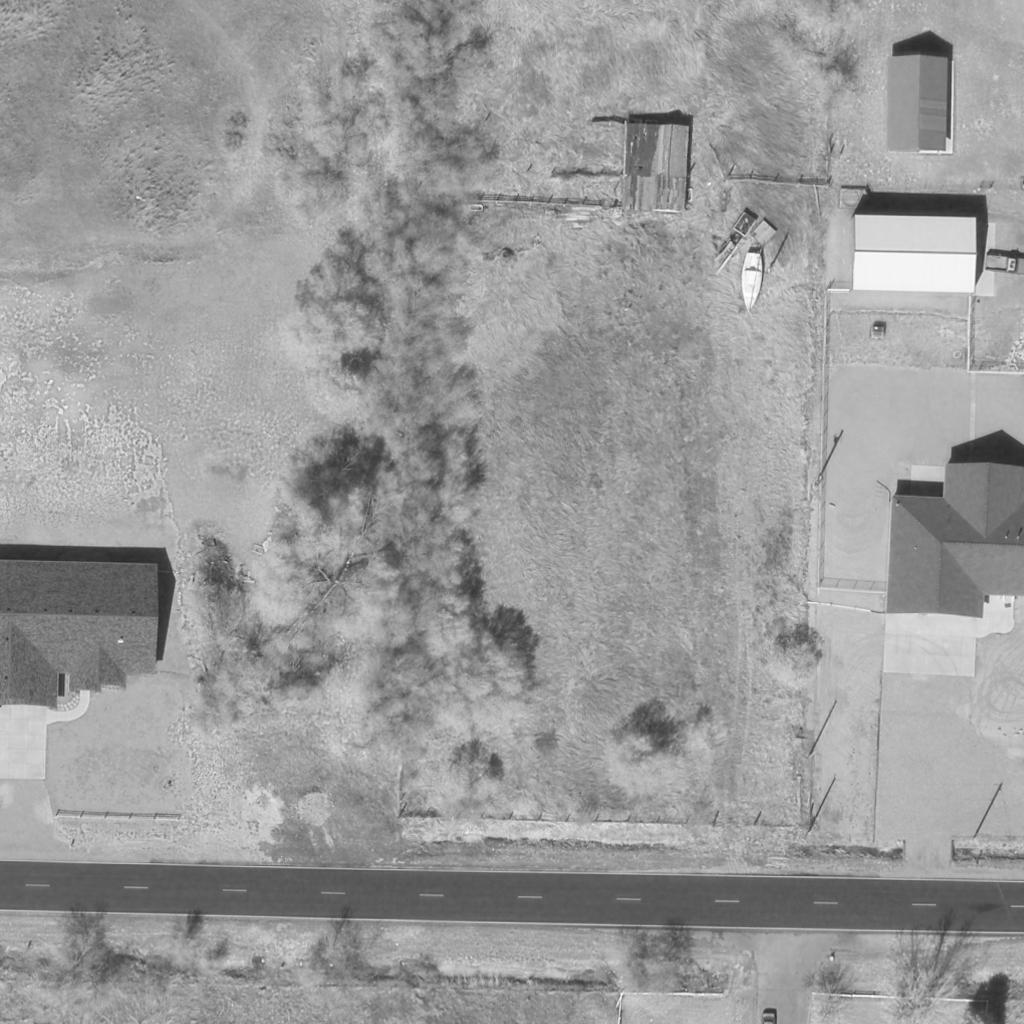vehicle: (742, 252, 766, 312), (985, 255, 1024, 277)
